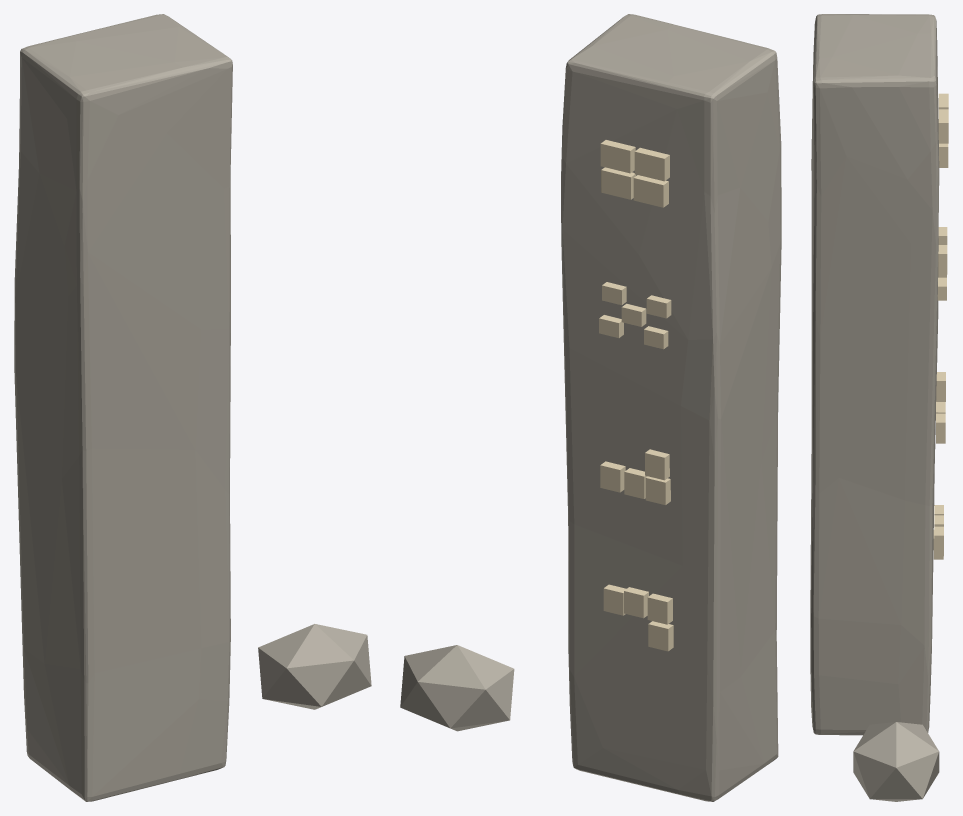
The model's file is 45-Arte3D_monolito_glifos.glb.
3 renders of one model, left to right at view 1: azimuth 30°, elevation 25°; view 2: azimuth 150°, elevation 25°; view 3: azimuth 270°, elevation 25°, orthographic. The views are drawn at different scales.
Parts seen in each view (by area): view 1: SM_Monolito_M_Piedra_Monolito; view 2: SM_Monolito_M_Piedra_Monolito, SM_Monolito_M_Glifo_Ancestral; view 3: SM_Monolito_M_Piedra_Monolito, SM_Monolito_M_Glifo_Ancestral.
Part boxes in pixels (x1,y1,x2,y2): SM_Monolito_M_Piedra_Monolito: (14,14,371,801); SM_Monolito_M_Piedra_Monolito: (400,14,781,801); SM_Monolito_M_Glifo_Ancestral: (599,140,673,651); SM_Monolito_M_Piedra_Monolito: (810,14,939,801); SM_Monolito_M_Glifo_Ancestral: (933,93,948,559).
Size of the model in its own units: 0.9071 by 1.86 by 0.3505.
